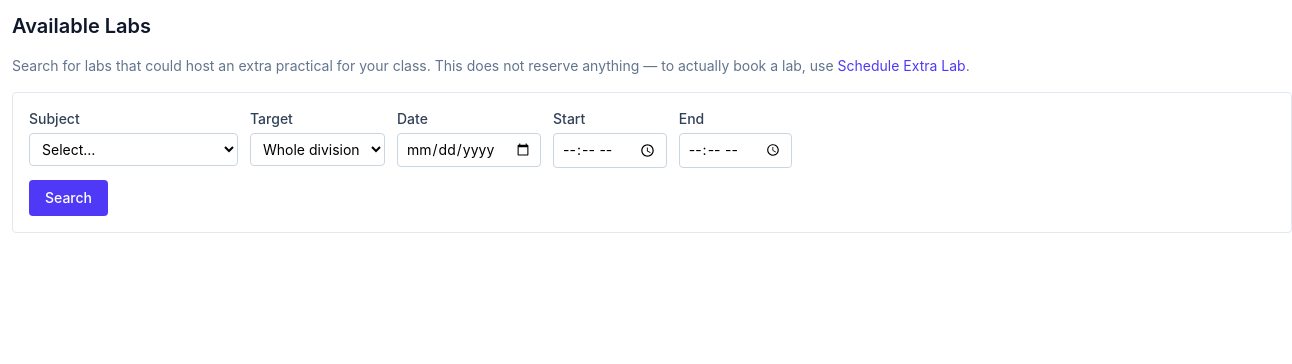
Test: AvailableLabsPage - PART 61/62/63/64/65 (mandatory scenarios) › PART 64 - explains faculty unavailability in plain language
The image size is (1292, 364).
Select "BDA — Big Data Analytics" in the dropdown labelled "Subject" at [134, 150], box [29, 133, 238, 166]
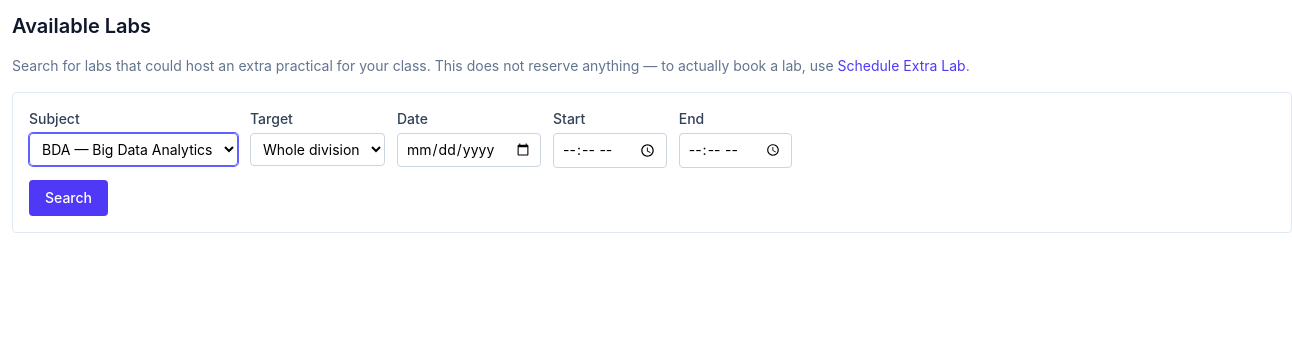
Type "2026-08-31" into the date field labelled "Date" at [469, 150], box [397, 133, 541, 167]
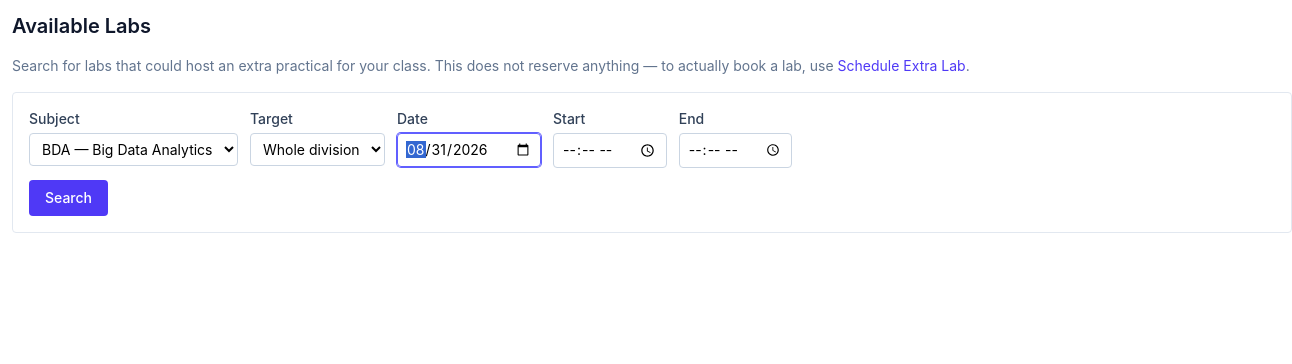
Type "09:00" into the time field labelled "Start" at [610, 150], box [553, 133, 667, 168]
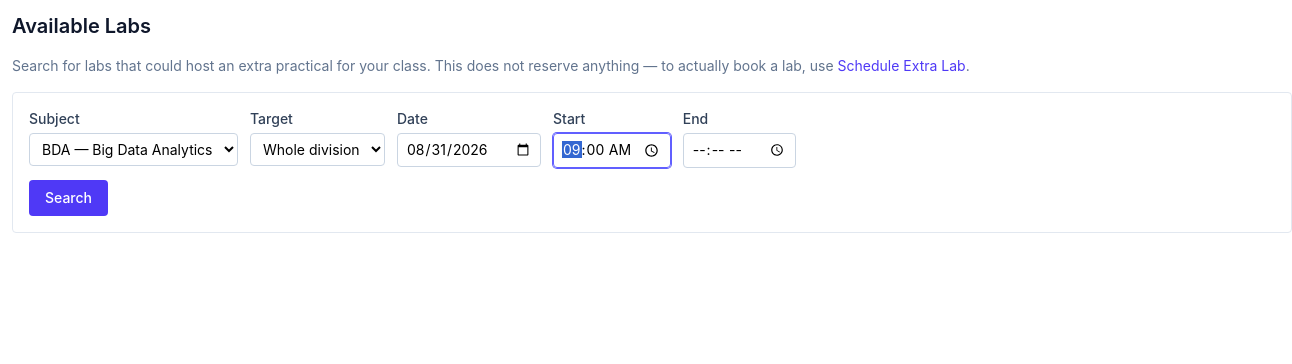
Type "11:00" into the time field labelled "End" at [740, 150], box [683, 133, 796, 168]
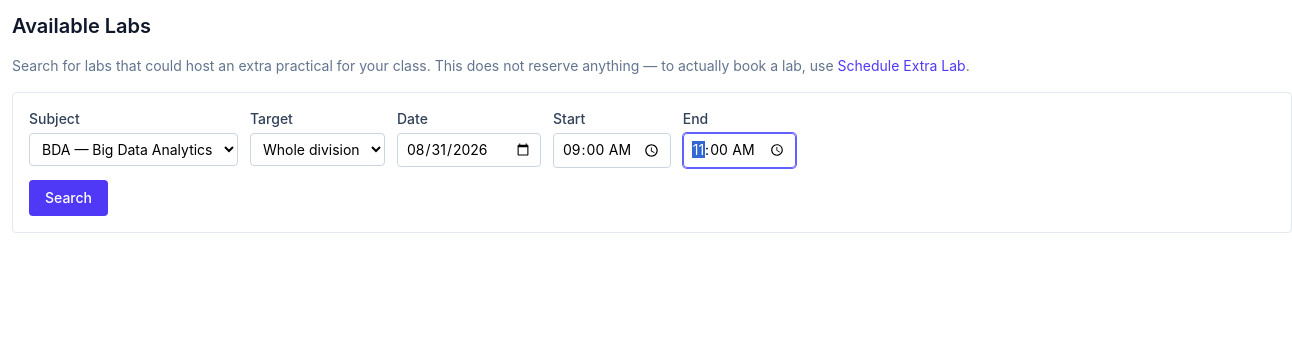
Click the button "Search" at [68, 198], box [29, 180, 108, 216]
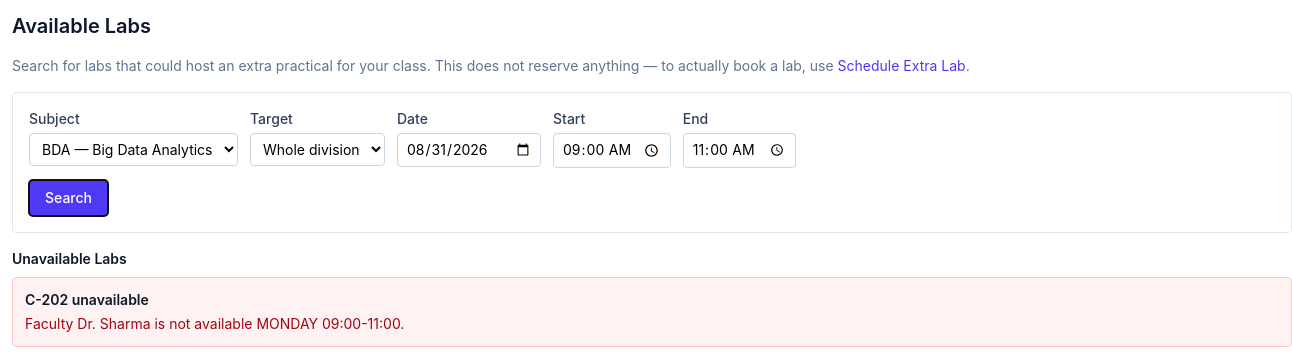
Expected: the list item "Faculty Dr. Sharma is not available MONDAY 09:00-11:00." is shown, [25, 315, 404, 332]
